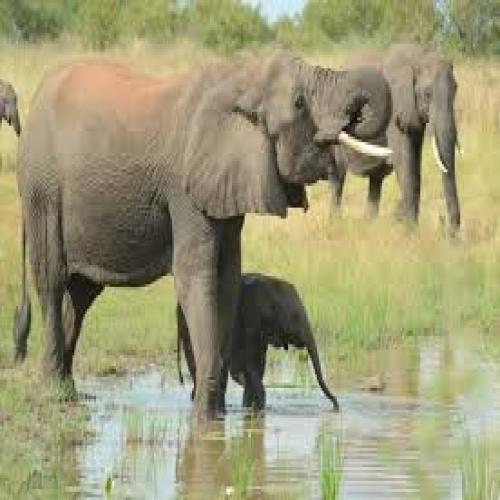asian_elephant-endangered: (14, 50, 393, 426), (326, 44, 463, 232), (176, 274, 340, 411)
